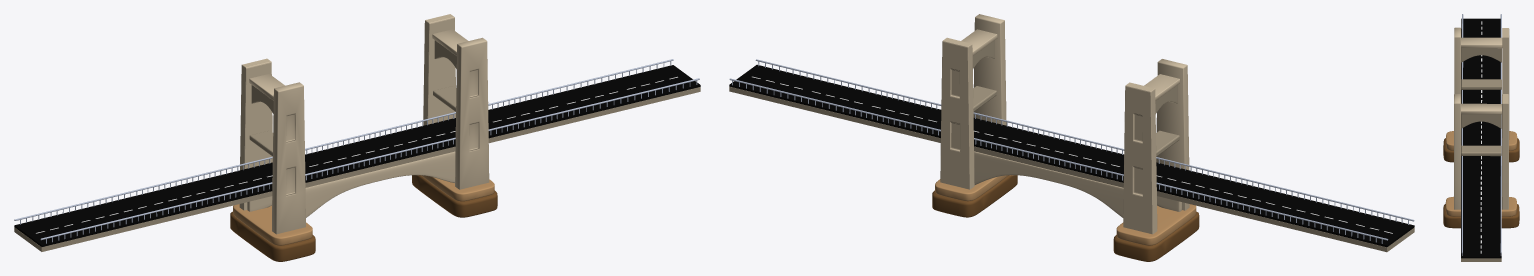
Rendered from Highway Control Ko╠êpru╠ê 1.fbx.
3 renders of one model, left to right at view 1: azimuth 30°, elevation 25°; view 2: azimuth 150°, elevation 25°; view 3: azimuth 270°, elevation 25°, orthographic. The views are drawn at different scales.
Parts seen in each view (by area): view 1: Köprü; view 2: Köprü; view 3: Köprü.
Boxes of the visible parts, x1,y1,x2,y2 form: Köprü: (14,14,700,261); Köprü: (729,14,1414,261); Köprü: (1443,14,1519,261).
Bounding box in the file's own units: 8497 × 2040 × 1153.
Materials: 1 (1 with a texture image).
